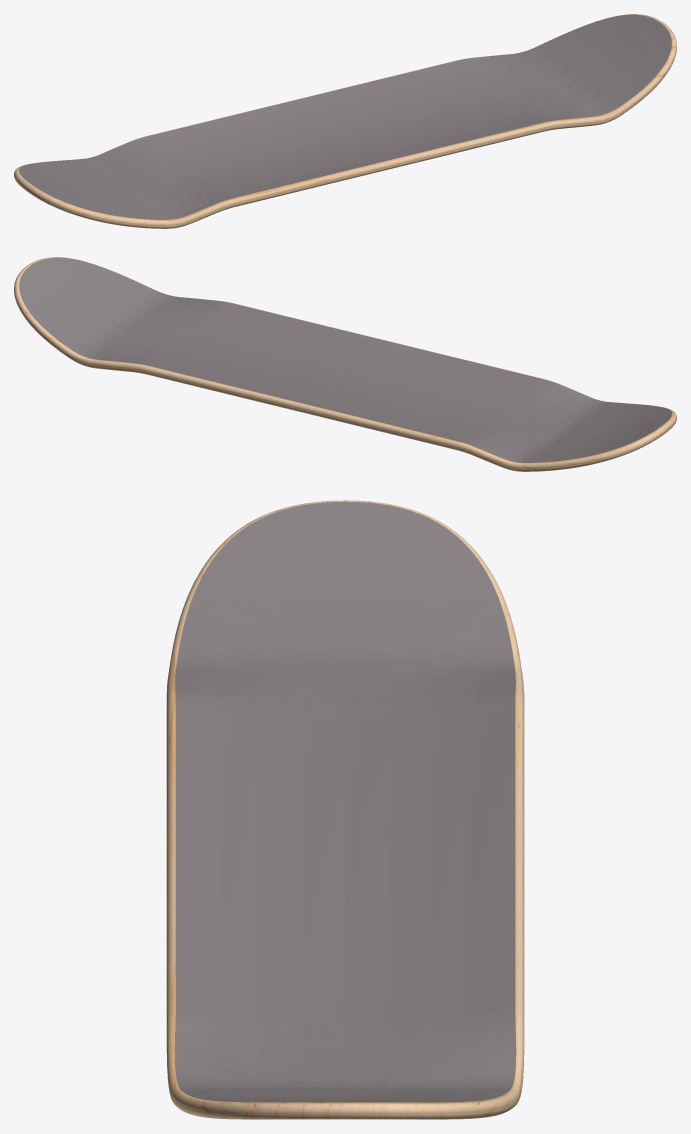
Rendered from deck.glb.
3 renders of one model, top to bottom at view 1: azimuth 30°, elevation 25°; view 2: azimuth 150°, elevation 25°; view 3: azimuth 270°, elevation 25°, orthographic. The views are drawn at different scales.
Parts seen in each view (by area): view 1: DeckTop, Deck; view 2: DeckTop, Deck; view 3: DeckTop, Deck.
Boxes of the visible parts, x1,y1,x2,y2 form: DeckTop: [19, 14, 671, 219]; Deck: [14, 14, 676, 228]; DeckTop: [19, 257, 671, 462]; Deck: [14, 257, 676, 471]; DeckTop: [174, 501, 516, 1102]; Deck: [166, 500, 524, 1119].
Size of the model in its own units: 0.8128 by 0.0557 by 0.1969.
3 materials, 1 textured.
